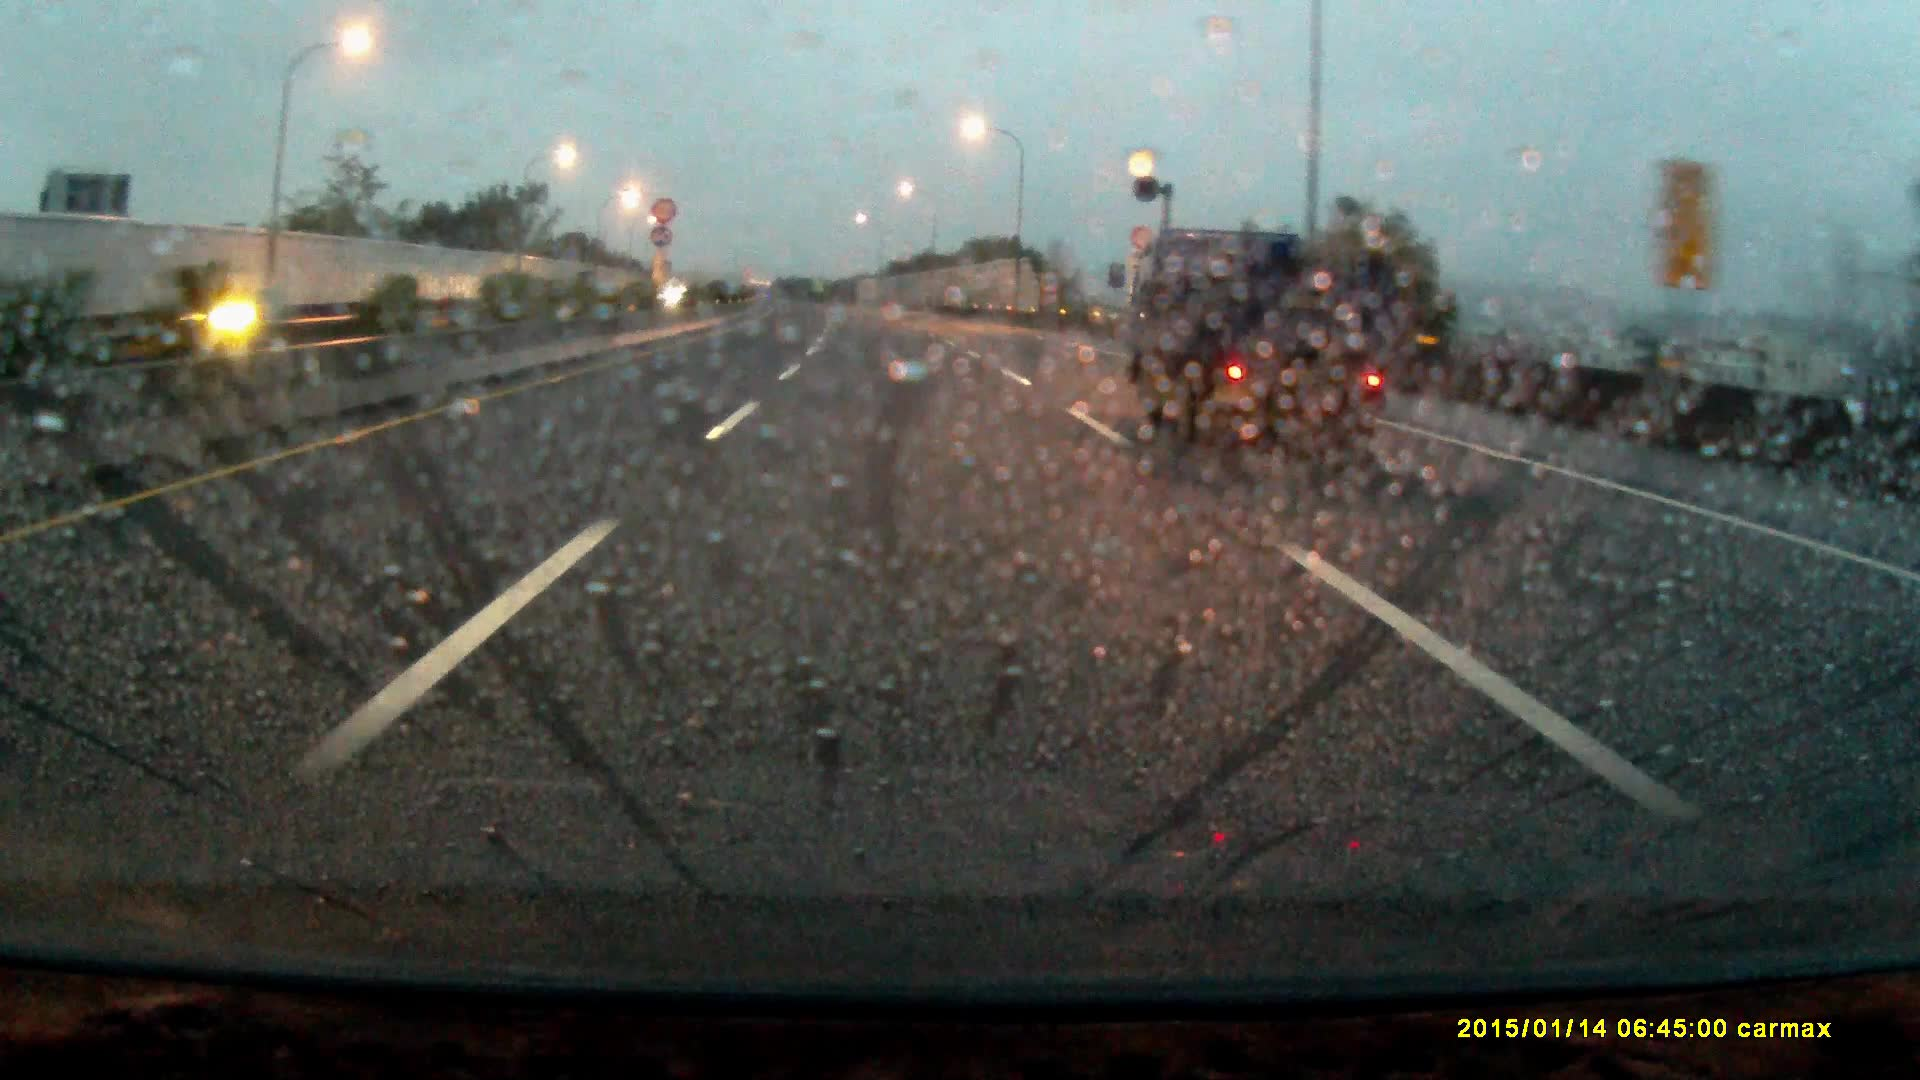vehicle: (1143, 223, 1404, 487), (175, 287, 286, 331)
